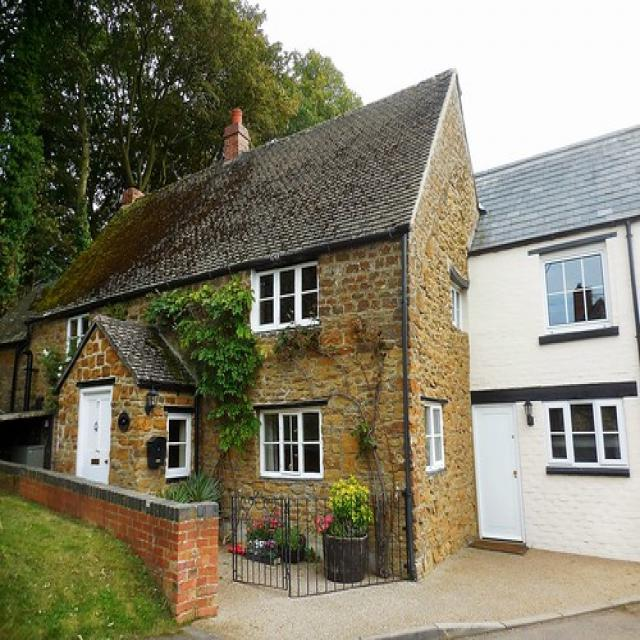Normal_building: (21, 65, 477, 589)
